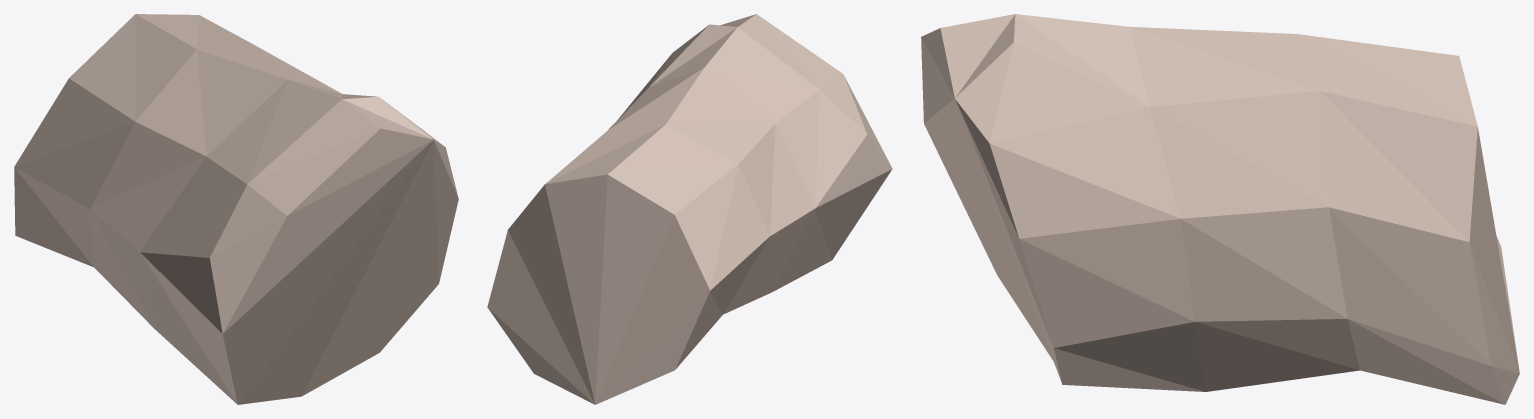
File: LBaby2ndPhalange.dae
3 renders of one model, left to right at view 1: azimuth 30°, elevation 25°; view 2: azimuth 150°, elevation 25°; view 3: azimuth 270°, elevation 25°, orthographic. The views are drawn at different scales.
Parts seen in each view (by area): view 1: ShapeIndexedFaceSet; view 2: ShapeIndexedFaceSet; view 3: ShapeIndexedFaceSet.
Boxes of the visible parts, <box> form: ShapeIndexedFaceSet: <box>14,14,458,404</box>; ShapeIndexedFaceSet: <box>487,14,892,404</box>; ShapeIndexedFaceSet: <box>921,14,1519,404</box>.
Size of the model in its own units: 0.0152 by 0.0238 by 0.0166.
